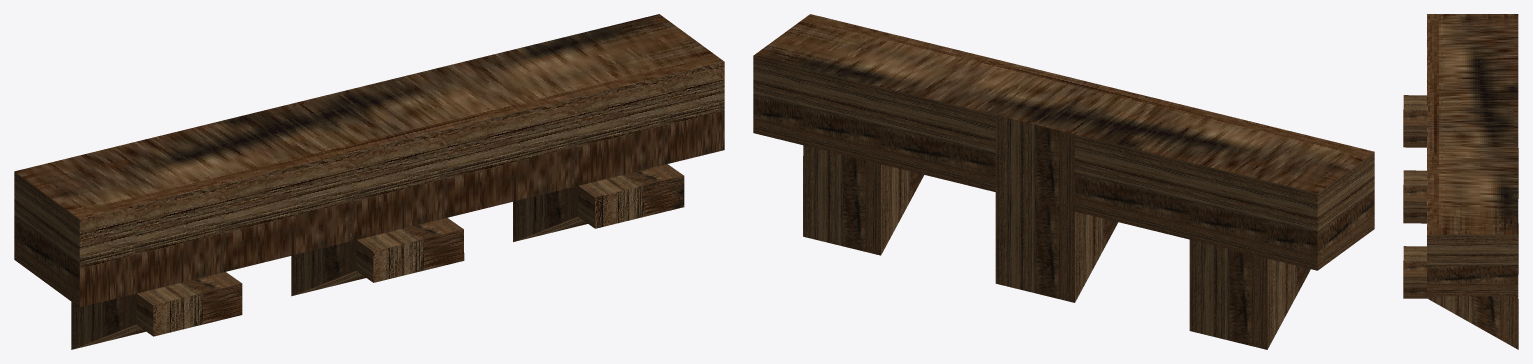
File: tavern_top_ridge.glb
The picture shows the model from 3 angles, left to right: view 1: azimuth 30°, elevation 25°; view 2: azimuth 150°, elevation 25°; view 3: azimuth 270°, elevation 25°; orthographic projection. The views are drawn at different scales.
Parts seen in each view (by area): view 1: tavern_top_ridge; view 2: tavern_top_ridge; view 3: tavern_top_ridge.
Boxes of the visible parts, x1,y1,x2,y2 form: tavern_top_ridge: (14,14,724,349); tavern_top_ridge: (753,14,1374,349); tavern_top_ridge: (1403,14,1518,349).
Bounding box in the file's own units: 3 × 0.8546 × 0.6607.
1 material, 1 textured.
